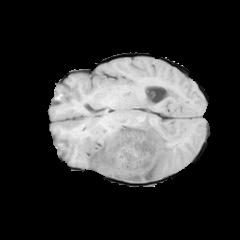glioma: (87, 117, 177, 181)
